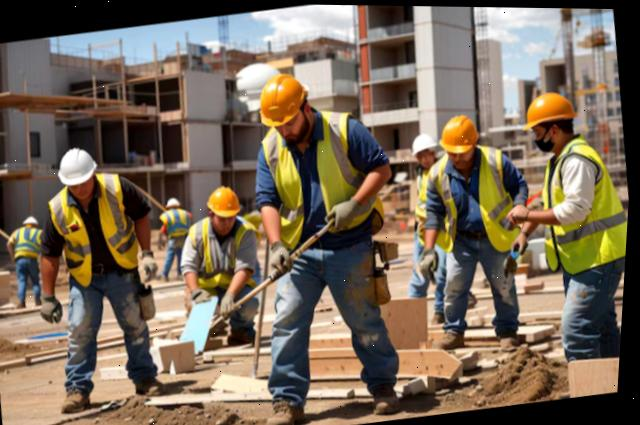helmet: (248, 61, 326, 135), (516, 79, 586, 132), (48, 141, 109, 193), (202, 177, 255, 224), (439, 107, 491, 154), (165, 191, 185, 208), (25, 213, 41, 227)
vest: (254, 115, 392, 253), (530, 139, 634, 280), (44, 172, 157, 295), (419, 144, 532, 264), (168, 215, 277, 307), (2, 225, 54, 269)
